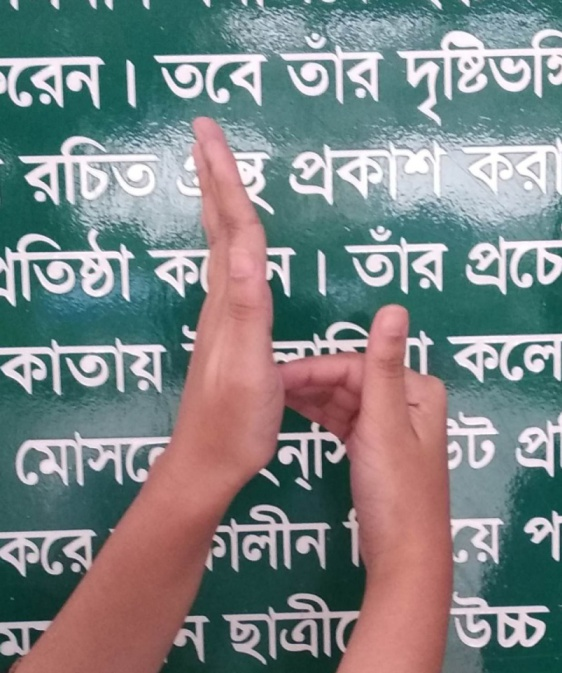ga: (157, 109, 459, 575)
